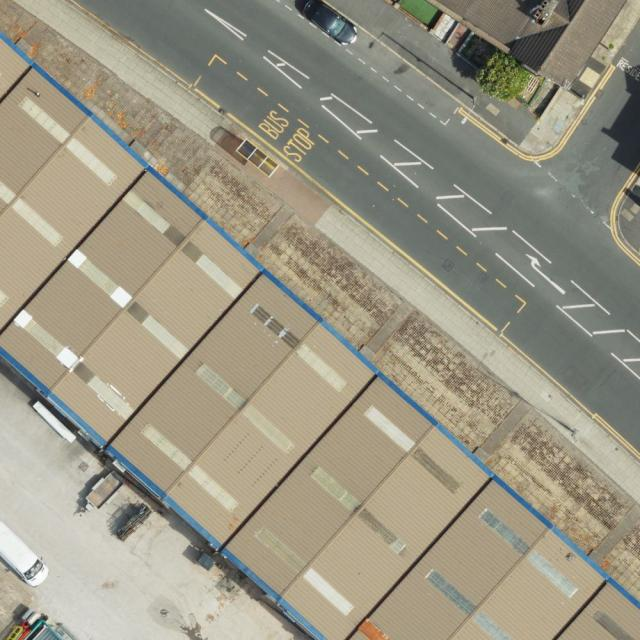roof: (0, 37, 640, 640), (425, 0, 626, 93)
